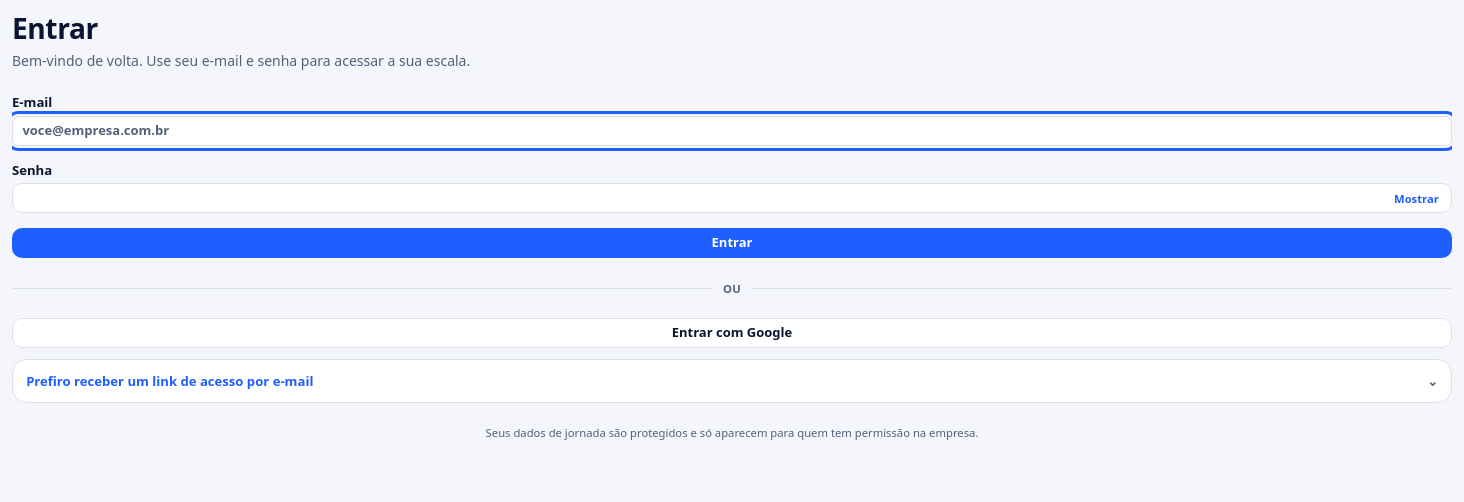
Test: Login › avisa quando o Google falha
Click the button "Entrar com Google" at (732, 333), box [12, 318, 1452, 348]
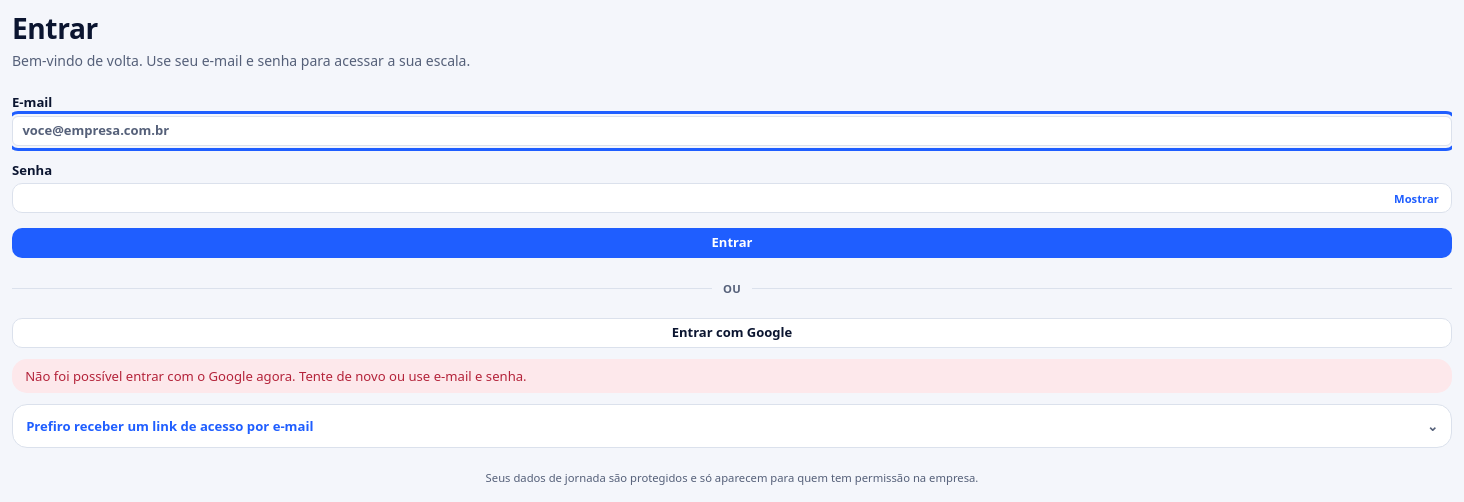
Result: the text "Não foi possível entrar com o Google" is shown at [25, 367, 527, 385]
